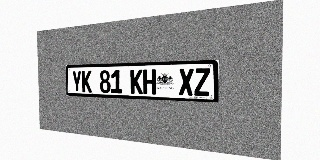1: (111, 70, 122, 93)
8: (100, 70, 110, 93)
H: (143, 69, 156, 94)
K: (130, 69, 143, 94), (82, 70, 92, 92)
X: (179, 68, 194, 96)
Y: (72, 71, 82, 92)
Z: (194, 68, 210, 96)
